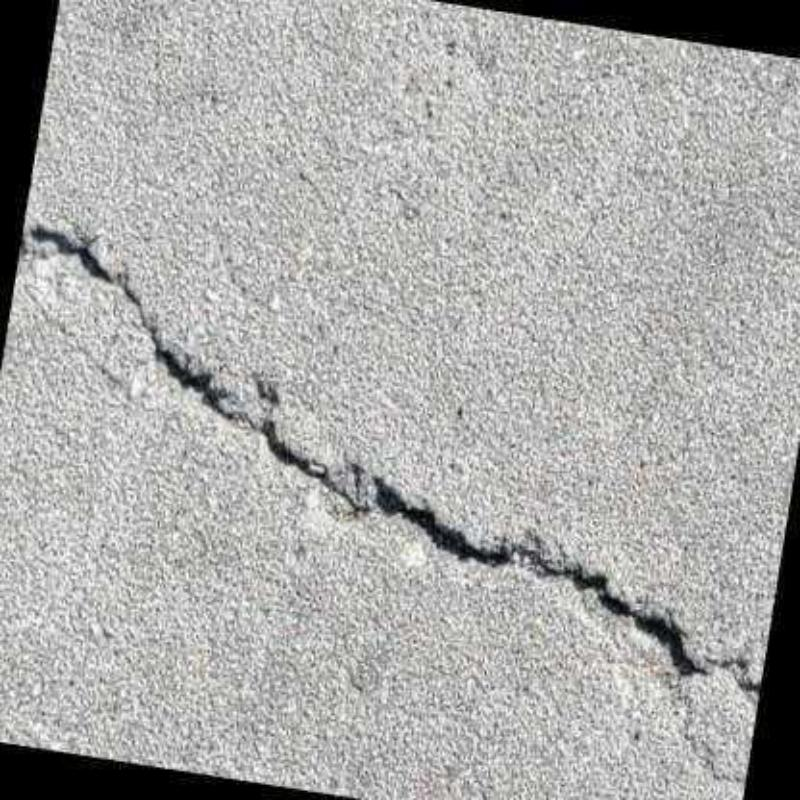pothole: (19, 223, 762, 698)
